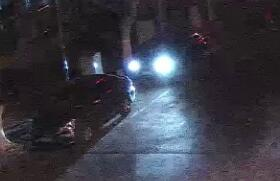car: (30, 72, 134, 151), (129, 28, 210, 87)
